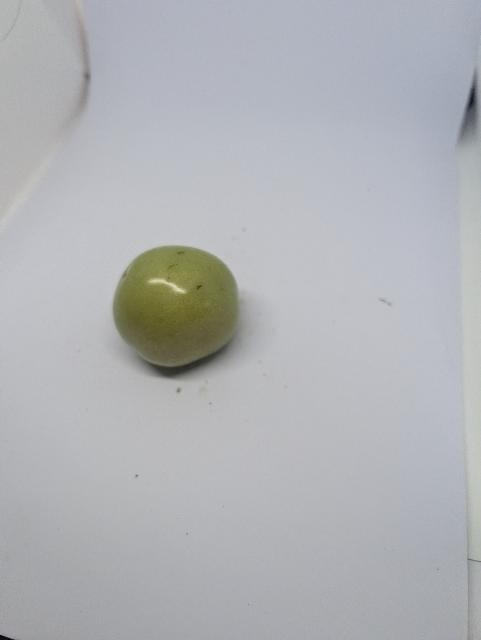green: (108, 243, 243, 370)
